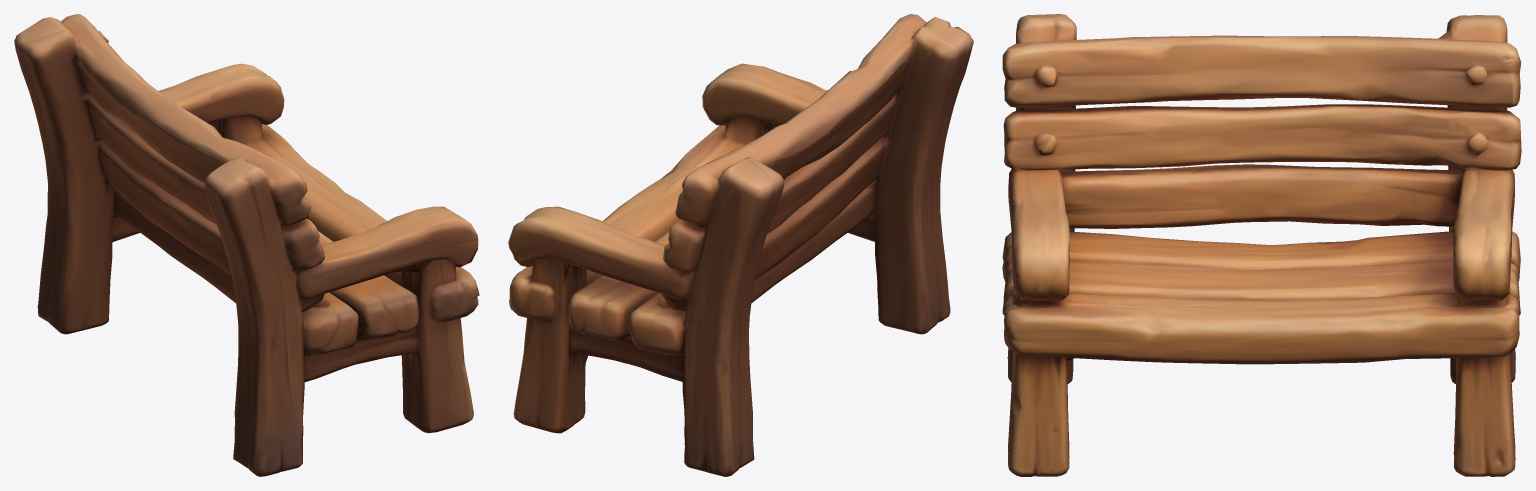
The model's file is bench_4k.glb.
The picture shows the model from 3 angles, left to right: view 1: azimuth 30°, elevation 25°; view 2: azimuth 150°, elevation 25°; view 3: azimuth 270°, elevation 25°; orthographic projection. The views are drawn at different scales.
Parts seen in each view (by area): view 1: tripo_node_66807357-fffb-4544-899c-bf5d4bab21b3; view 2: tripo_node_66807357-fffb-4544-899c-bf5d4bab21b3; view 3: tripo_node_66807357-fffb-4544-899c-bf5d4bab21b3.
Part boxes in pixels (x1,y1,x2,y2): tripo_node_66807357-fffb-4544-899c-bf5d4bab21b3: [14, 14, 479, 476]; tripo_node_66807357-fffb-4544-899c-bf5d4bab21b3: [508, 14, 973, 476]; tripo_node_66807357-fffb-4544-899c-bf5d4bab21b3: [1002, 14, 1521, 476].
Bounding box in the file's own units: 0.6365 × 0.7224 × 0.981.
Materials: 1 (1 with a texture image).
